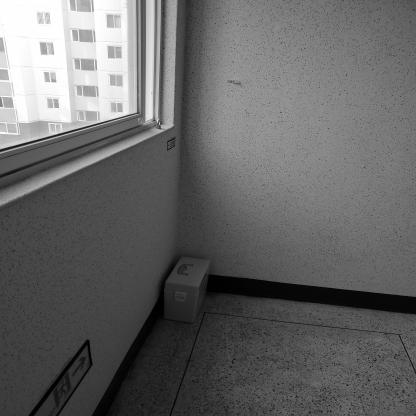DDL: (163, 255, 210, 323)
